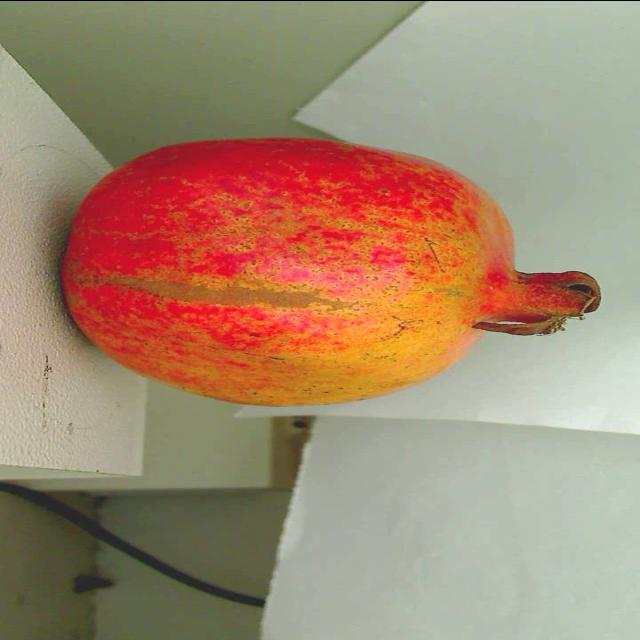pomegranate: (47, 128, 611, 414)
